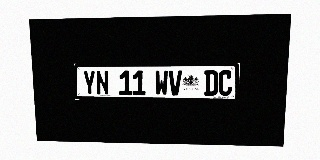1: (119, 70, 132, 95), (132, 70, 145, 95)
C: (218, 70, 232, 96)
D: (204, 70, 218, 96)
N: (96, 70, 109, 95)
V: (169, 70, 182, 96)
W: (155, 70, 168, 95)
Y: (83, 70, 96, 95)
